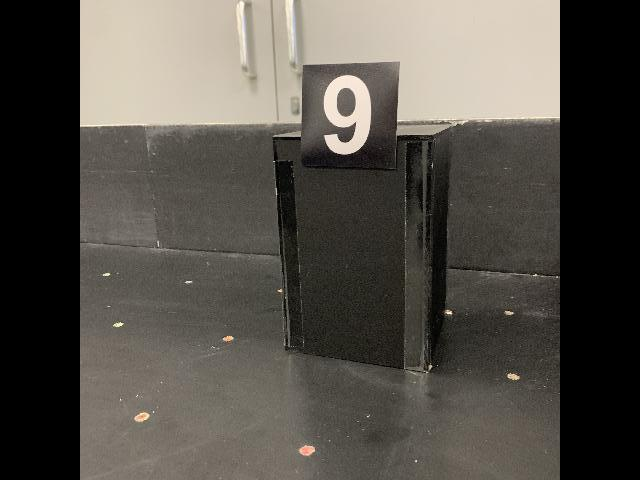nine: (300, 60, 403, 171)
